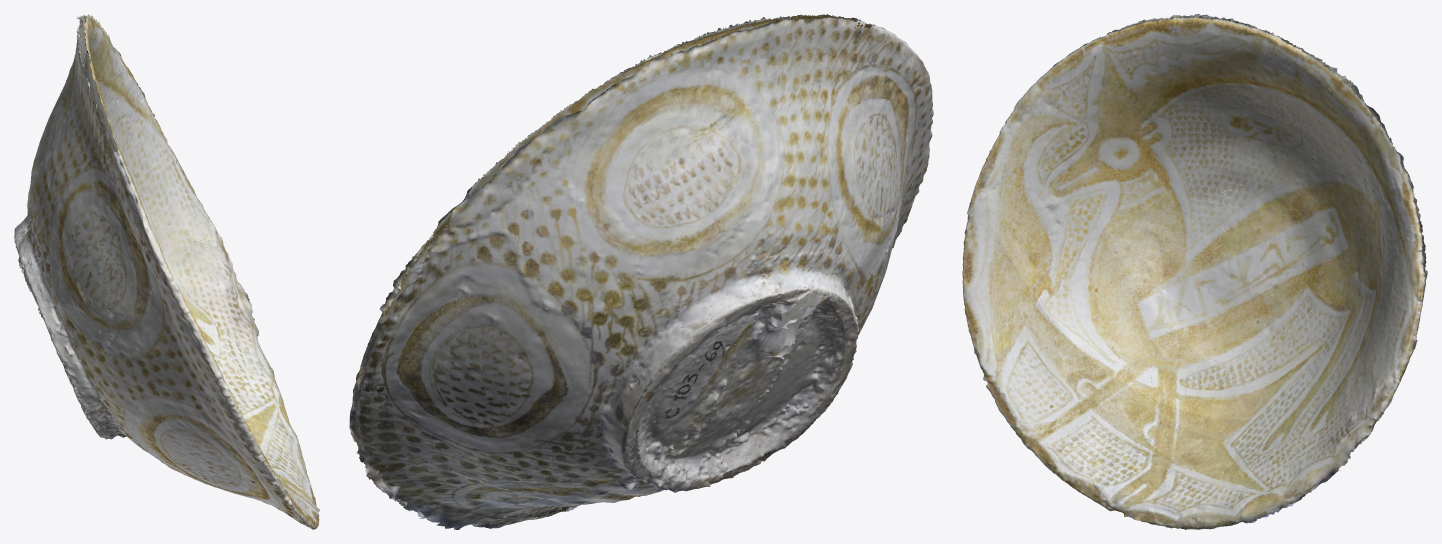
The model's file is bowl.glb.
The picture shows the model from 3 angles, left to right: view 1: azimuth 30°, elevation 25°; view 2: azimuth 150°, elevation 25°; view 3: azimuth 270°, elevation 25°; orthographic projection. The views are drawn at different scales.
Parts seen in each view (by area): view 1: Object_2, Object_3, Object_4; view 2: Object_3, Object_2, Object_4; view 3: Object_2, Object_3, Object_4.
Boxes of the visible parts, x1,y1,x2,y2 form: Object_2: [14, 15, 319, 529]; Object_3: [14, 14, 319, 529]; Object_4: [14, 15, 320, 529]; Object_3: [352, 15, 932, 523]; Object_2: [349, 14, 933, 528]; Object_4: [350, 14, 931, 529]; Object_2: [962, 14, 1422, 529]; Object_3: [963, 17, 1426, 529]; Object_4: [962, 14, 1427, 528].
Size of the model in its own units: 20.92 by 31.16 by 30.83.
1 material, 1 textured.
